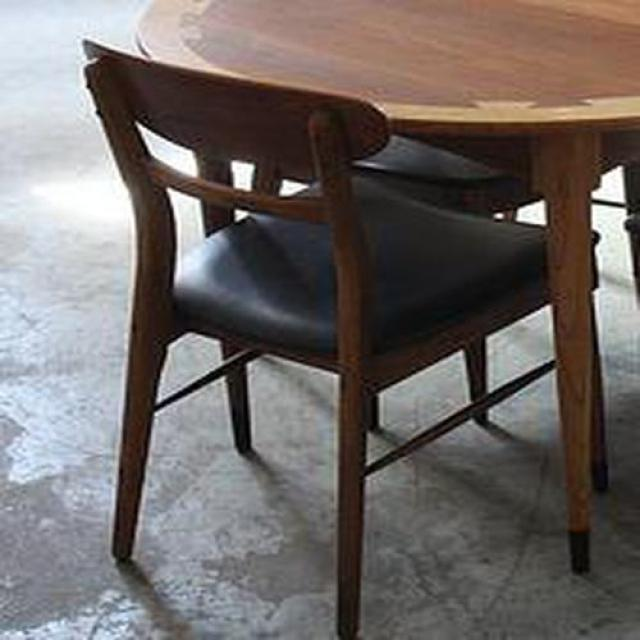chair: (82, 41, 558, 640)
